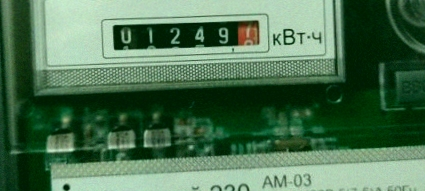0: (119, 24, 132, 44)
1: (144, 24, 154, 43)
2: (168, 24, 181, 44)
4: (193, 24, 204, 43)
7: (241, 19, 253, 38)
9: (216, 24, 229, 45)
screen: (93, 11, 268, 57)
